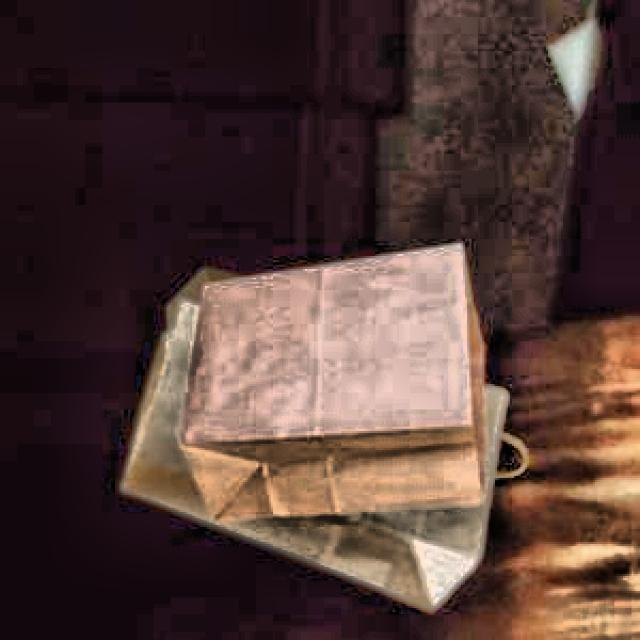Paper-bag: (118, 285, 525, 621), (176, 234, 499, 545)
